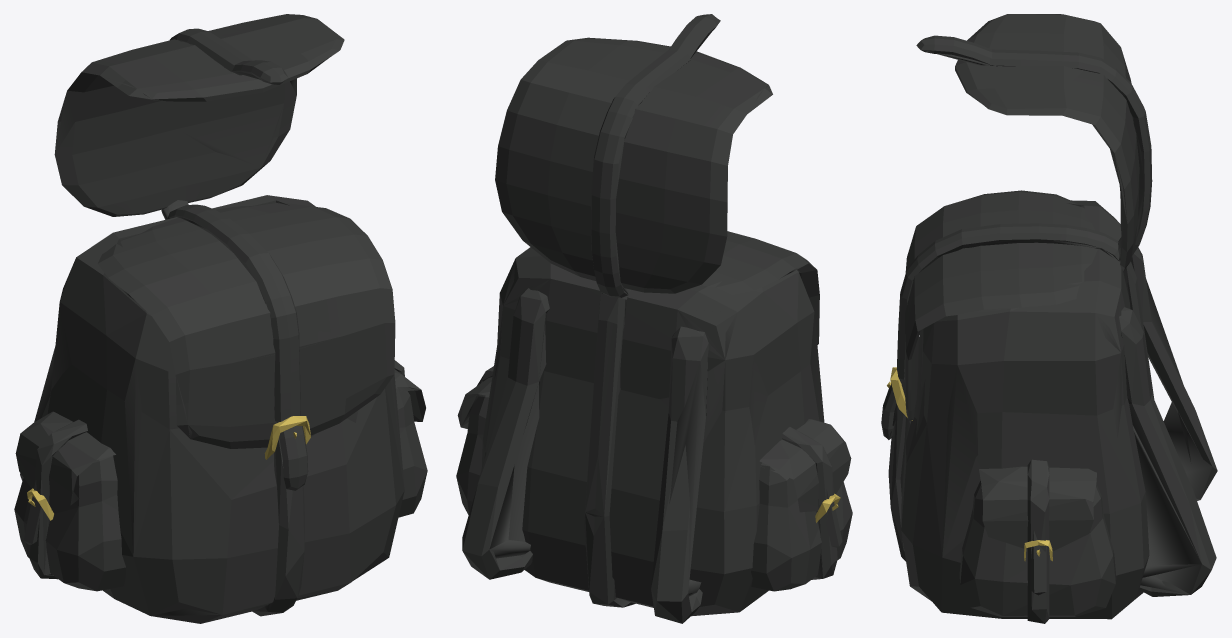
The model's file is item_backpack_black.glb.
3 renders of one model, left to right at view 1: azimuth 30°, elevation 25°; view 2: azimuth 150°, elevation 25°; view 3: azimuth 270°, elevation 25°, orthographic. The views are drawn at different scales.
Parts seen in each view (by area): view 1: Backpack.002 (×2), Backpack; view 2: Backpack, Backpack.002 (×2); view 3: Backpack, Backpack.002 (×2).
Part boxes in pixels (box(x1,y1,x2,y2)): Backpack.002 (×2): box(54, 14, 395, 490); Backpack: box(14, 195, 427, 623); Backpack: box(456, 247, 852, 623); Backpack.002 (×2): box(495, 14, 819, 344); Backpack: box(887, 200, 1217, 623); Backpack.002 (×2): box(881, 14, 1152, 439).
Size of the model in its own units: 0.5338 by 0.7229 by 0.4031.
1 material, 1 textured.
